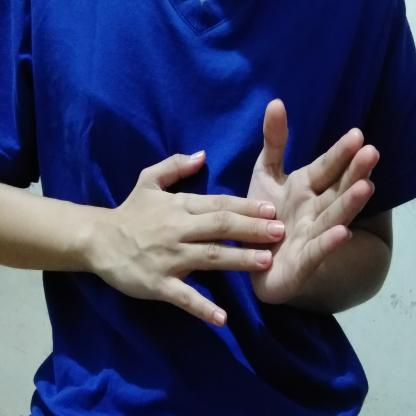mother: (77, 94, 391, 338)
